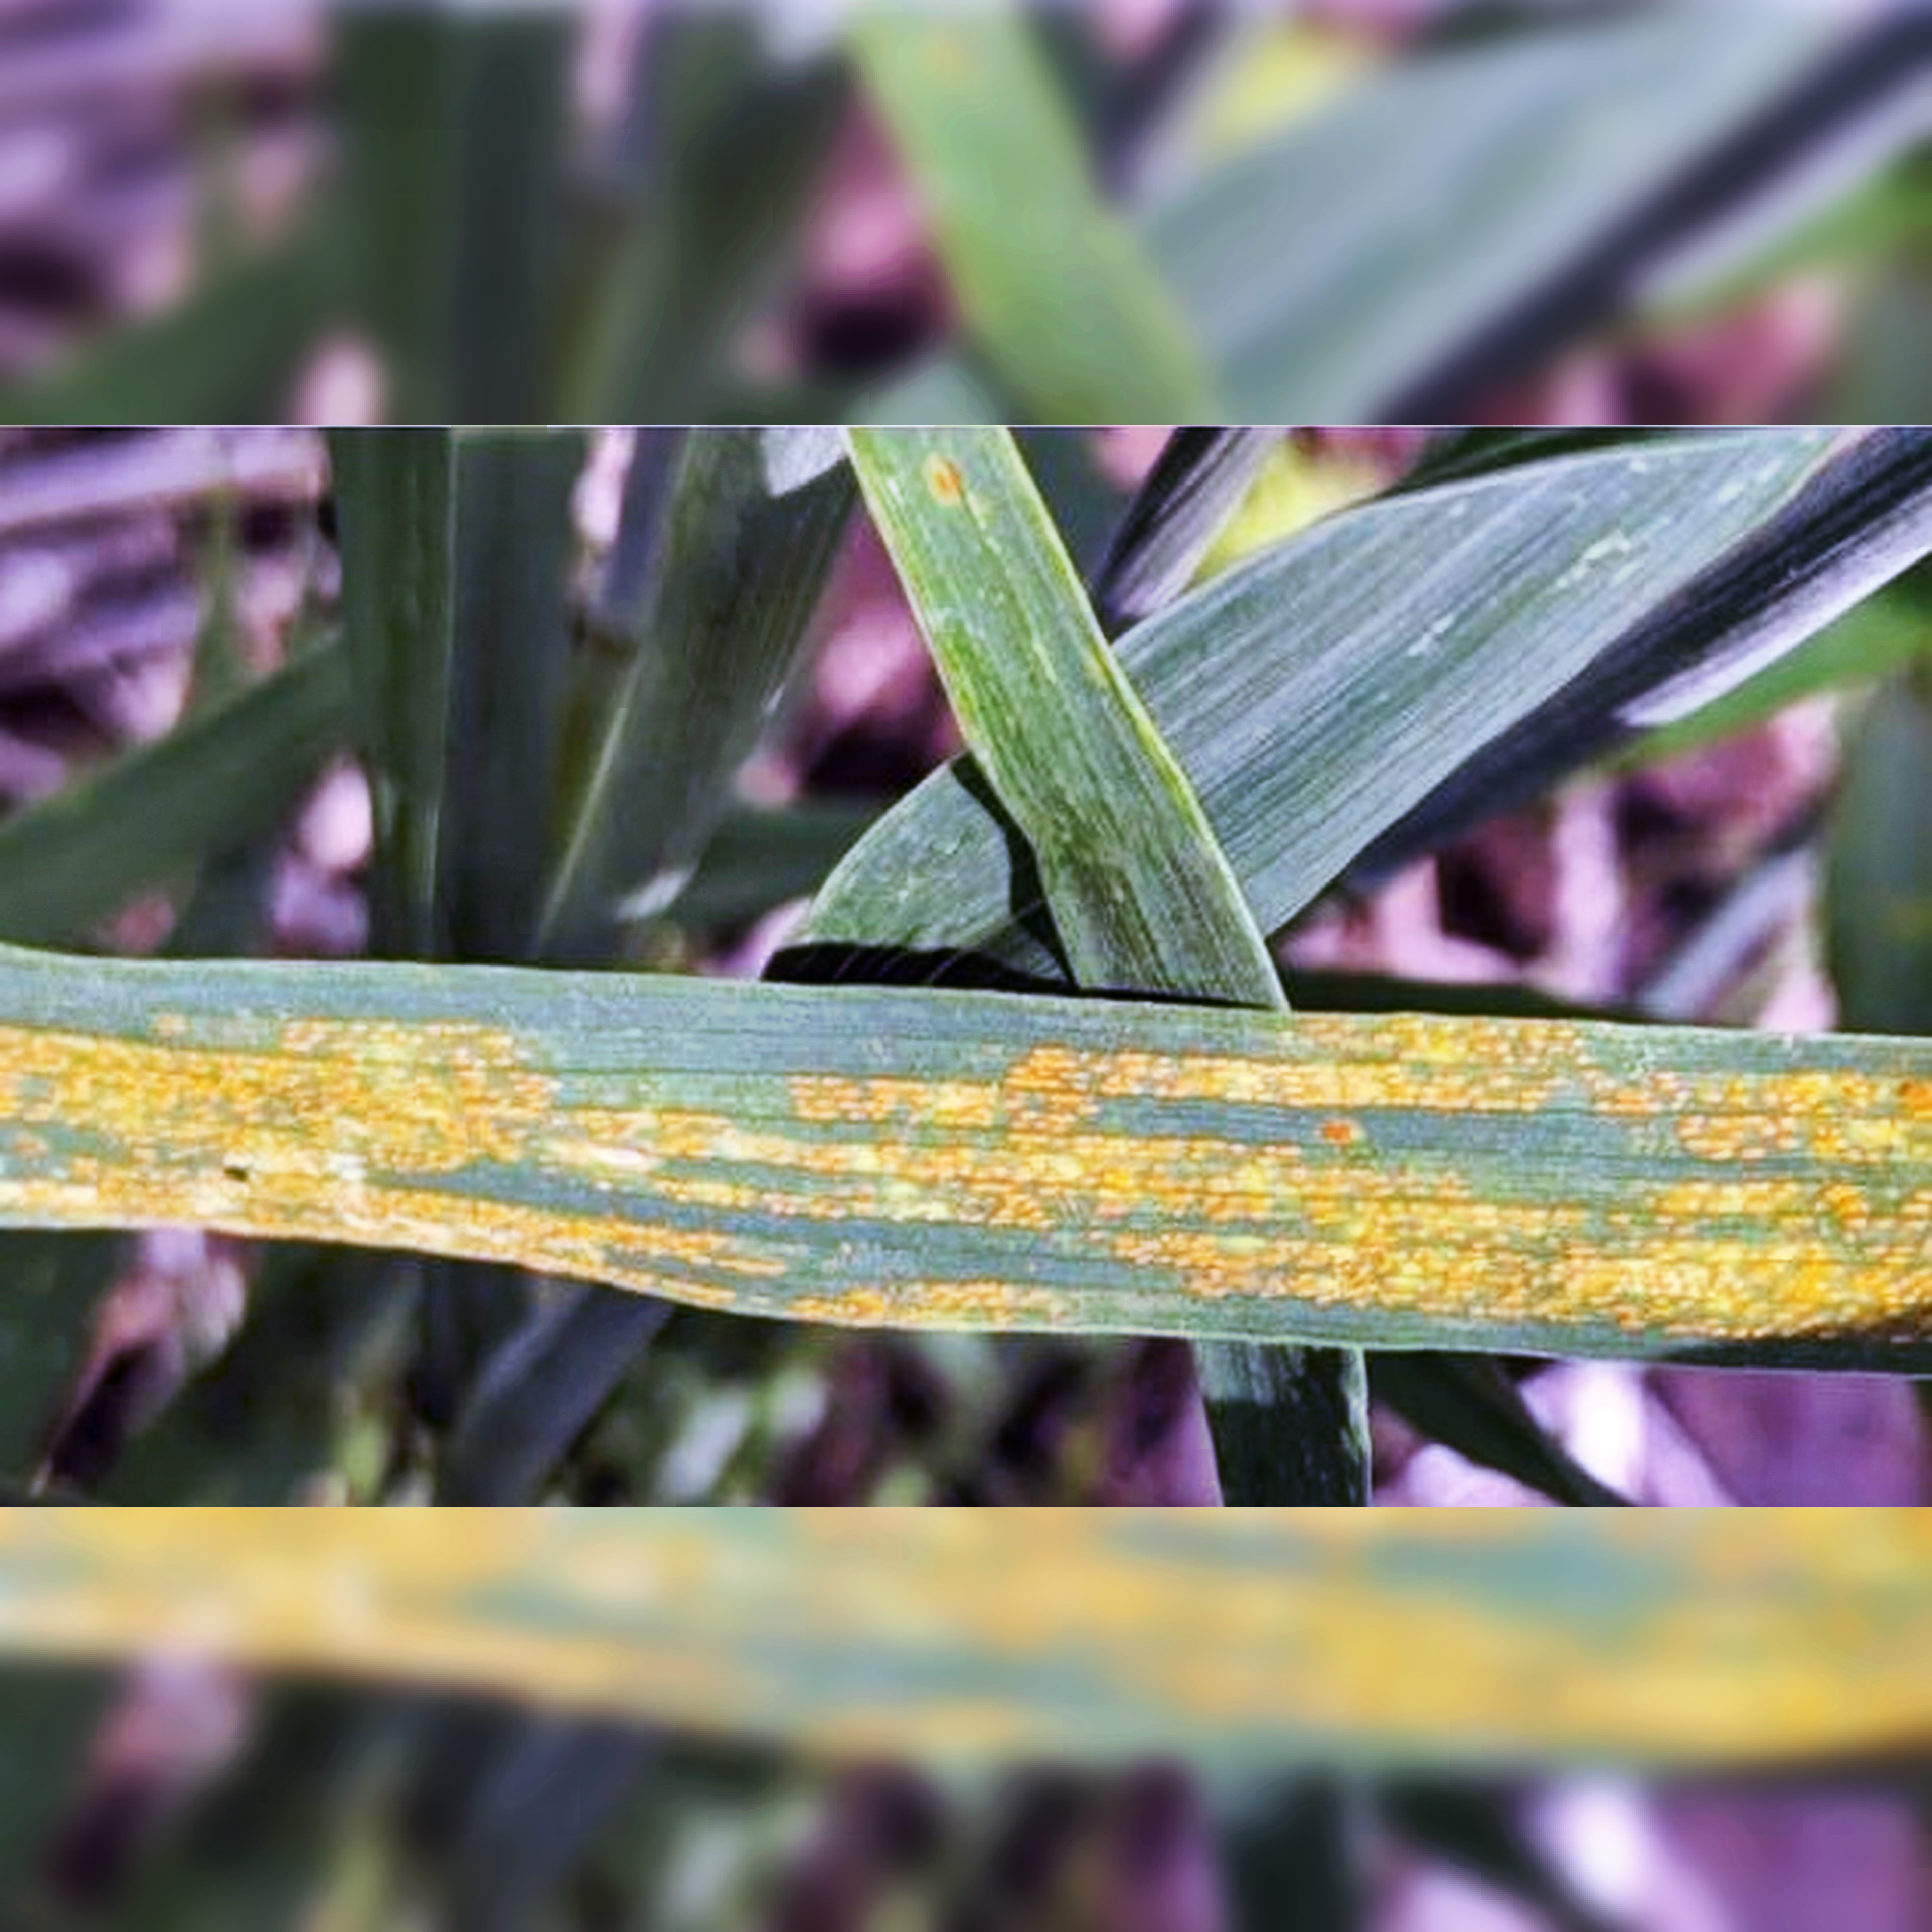Leaf Rust: (78, 947, 1870, 1385)
